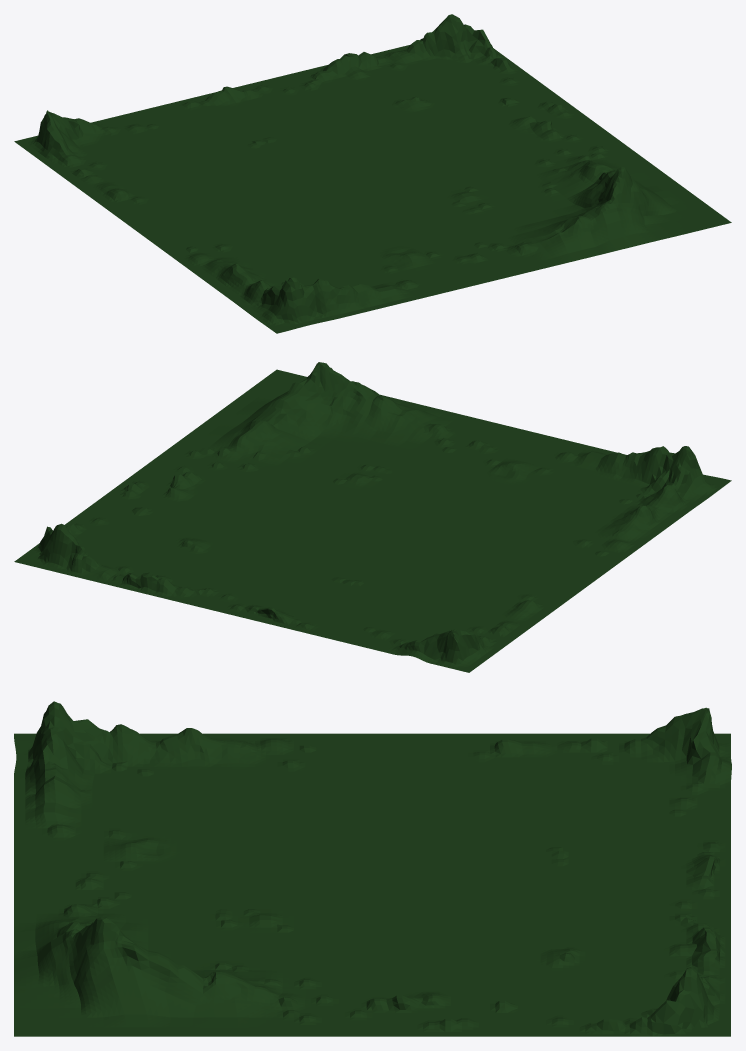
The model's file is Ground.dae.
The picture shows the model from 3 angles, top to bottom: view 1: azimuth 30°, elevation 25°; view 2: azimuth 150°, elevation 25°; view 3: azimuth 270°, elevation 25°; orthographic projection. The views are drawn at different scales.
Parts seen in each view (by area): view 1: Plane; view 2: Plane; view 3: Plane.
Boxes of the visible parts, x1,y1,x2,y2 form: Plane: (14,14,731,333); Plane: (14,362,731,672); Plane: (14,701,731,1036).
Bounding box in the file's own units: 26.36 × 26.38 × 2.77.
